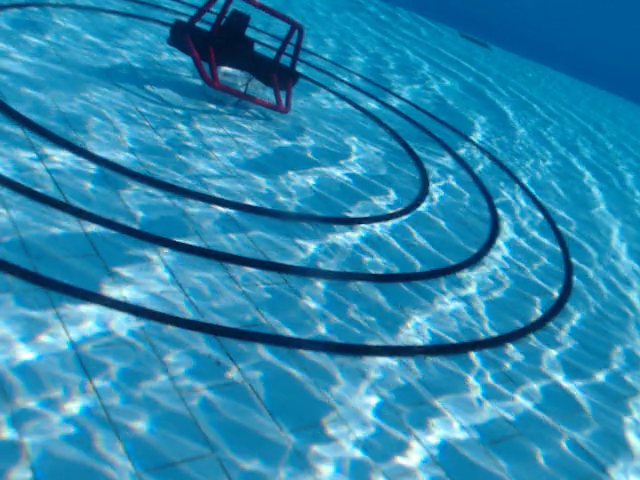submarine: (160, 1, 306, 117)
